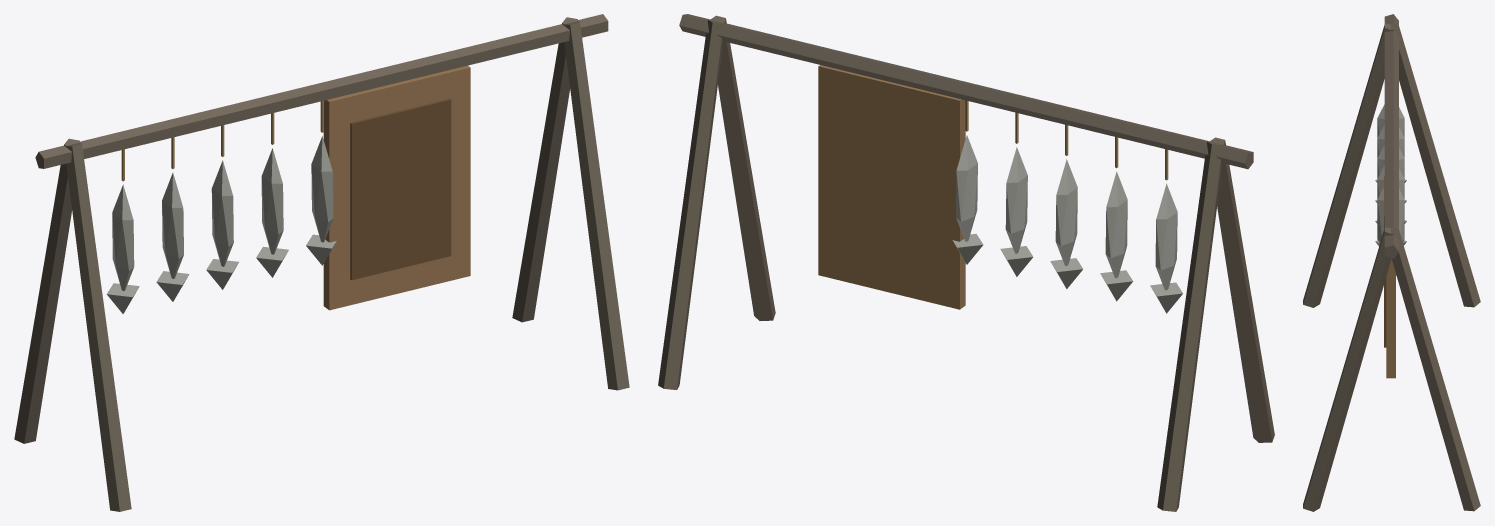
Rendered from forest_rack.glb.
3 renders of one model, left to right at view 1: azimuth 30°, elevation 25°; view 2: azimuth 150°, elevation 25°; view 3: azimuth 270°, elevation 25°, orthographic. The views are drawn at different scales.
Visible parts, largest first — view 1: forest_rack; view 2: forest_rack; view 3: forest_rack.
Boxes of the visible parts, <box> form: forest_rack: <box>14,14,629,511</box>; forest_rack: <box>658,14,1274,511</box>; forest_rack: <box>1303,14,1480,511</box>.
Bounding box in the file's own units: 3.4 × 1.91 × 1.1.
